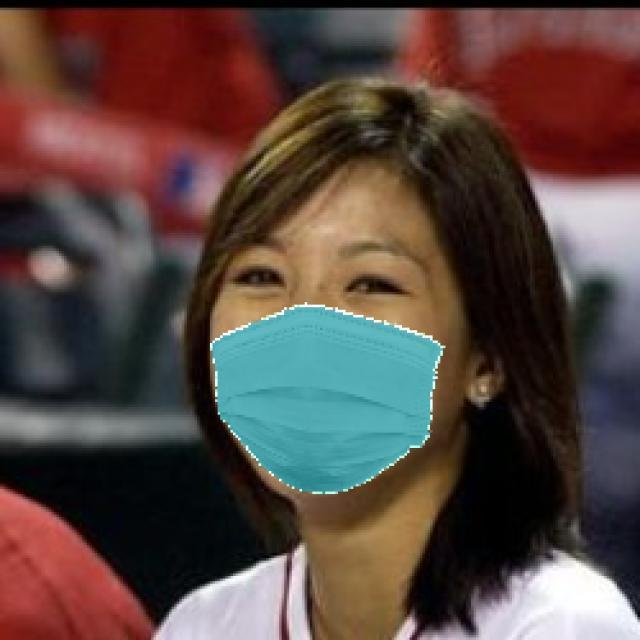surgical: (212, 184, 456, 496)
